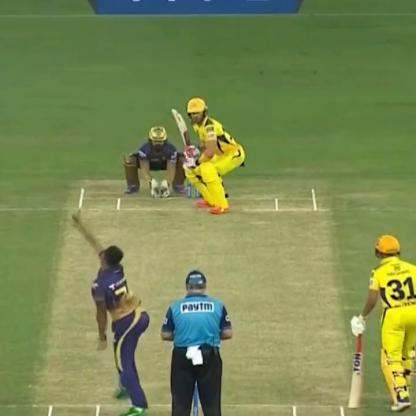bat: (340, 314, 372, 411), (161, 97, 203, 167)
pitch: (51, 184, 367, 416)
